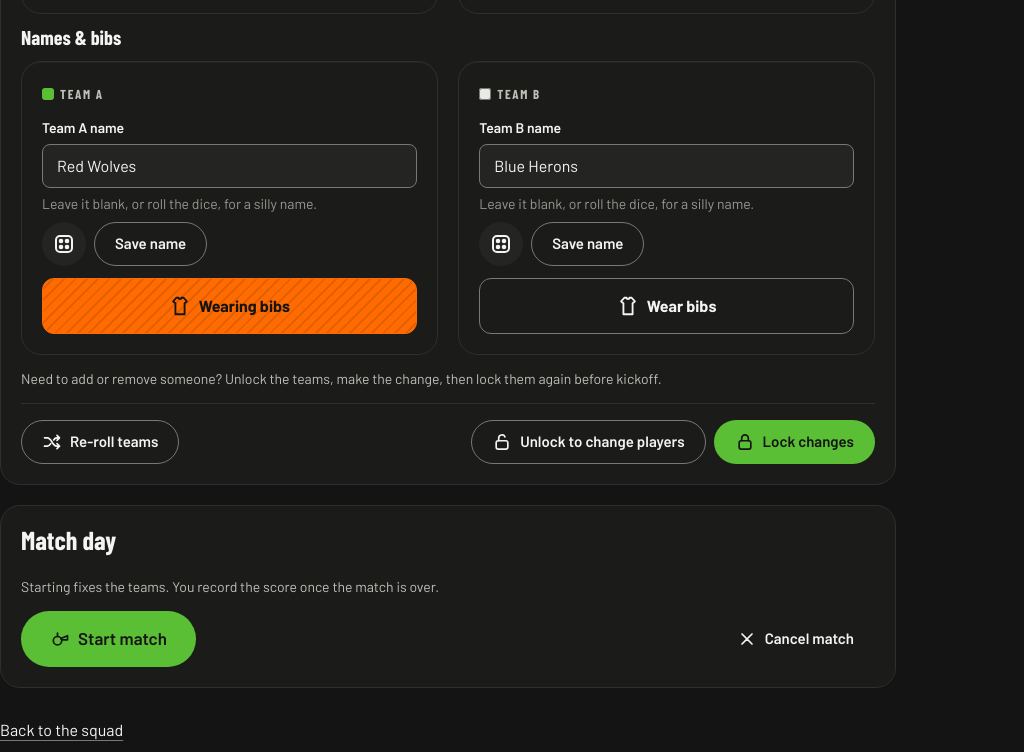
Test: MatchScreen from kick-off to the final score › cancels a match only on a second, explicit activation
The width and height of the screenshot is (1024, 752).
(page scrolled)
Click the button "Cancel match" at [795, 639], box [716,617,875,661]
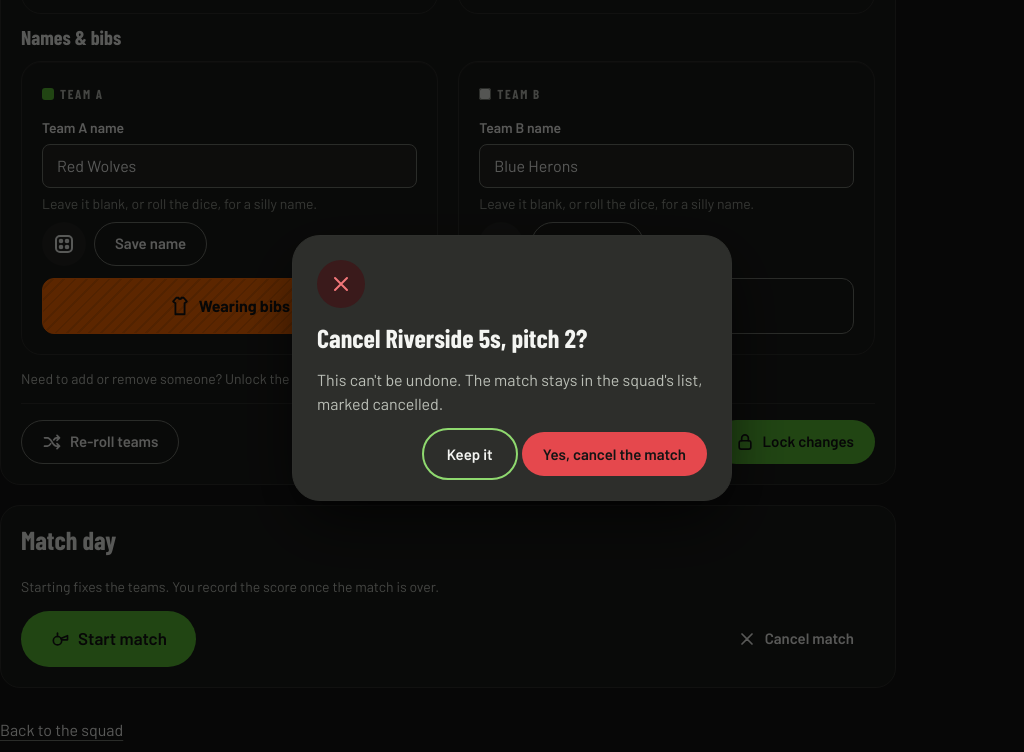
Click the button "Keep it" at [470, 454], box [426,432,514,476]
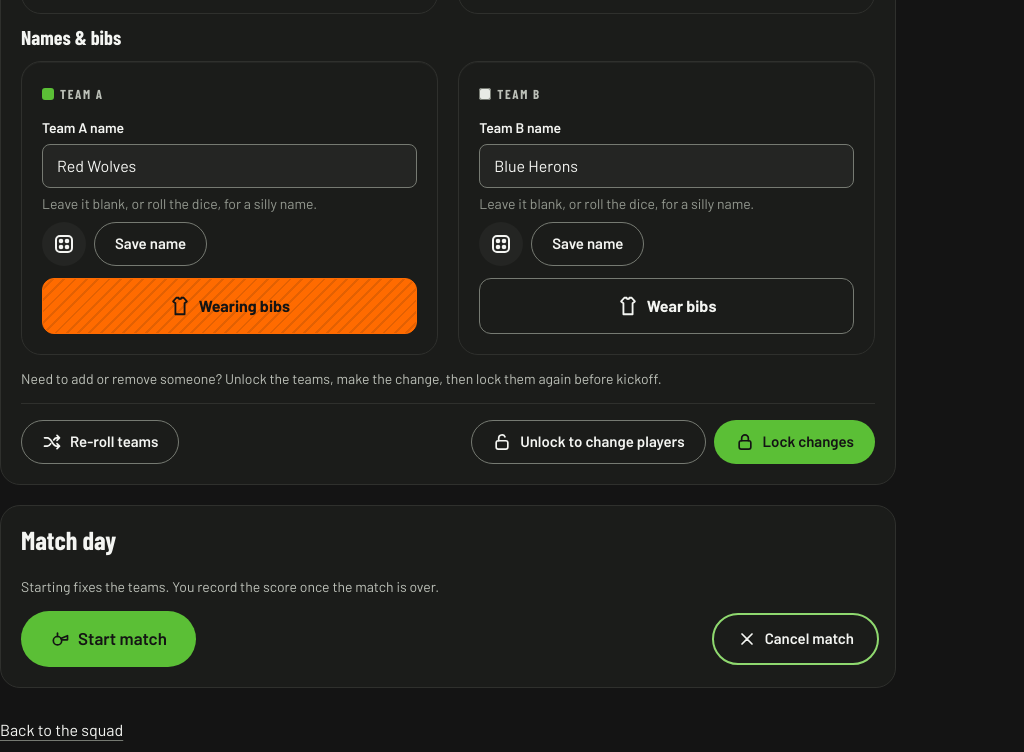
Click the button "Cancel match" at [795, 639], box [716,617,875,661]
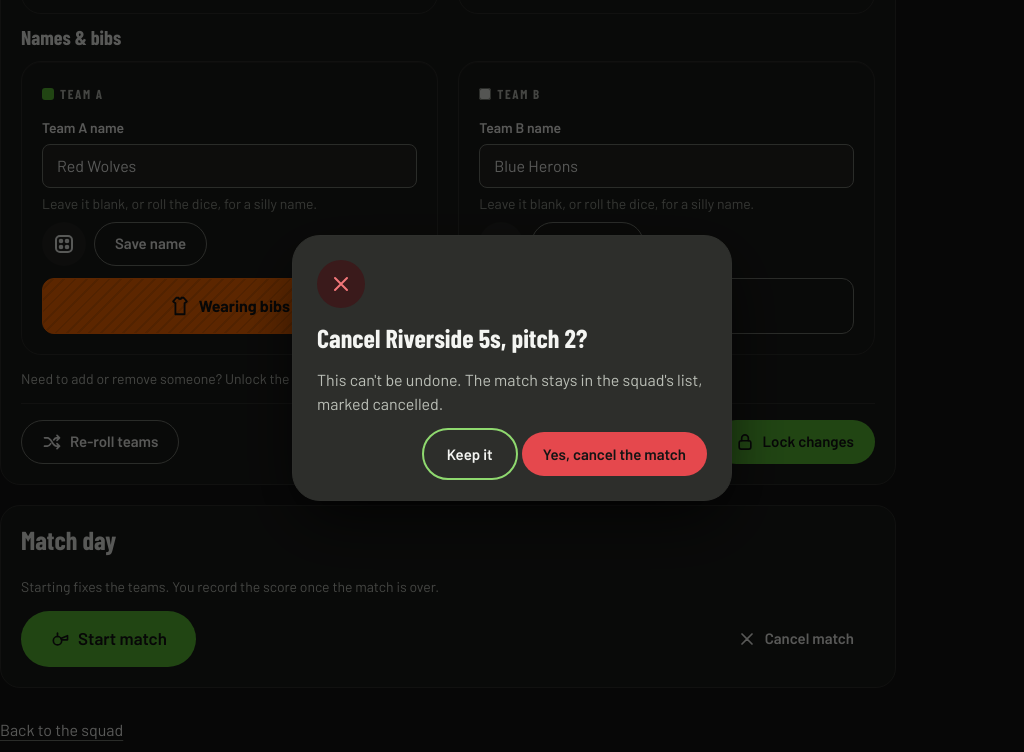
Click the button "Yes, cancel the match" at [614, 454], box [522,432,707,476]
(page scrolled)
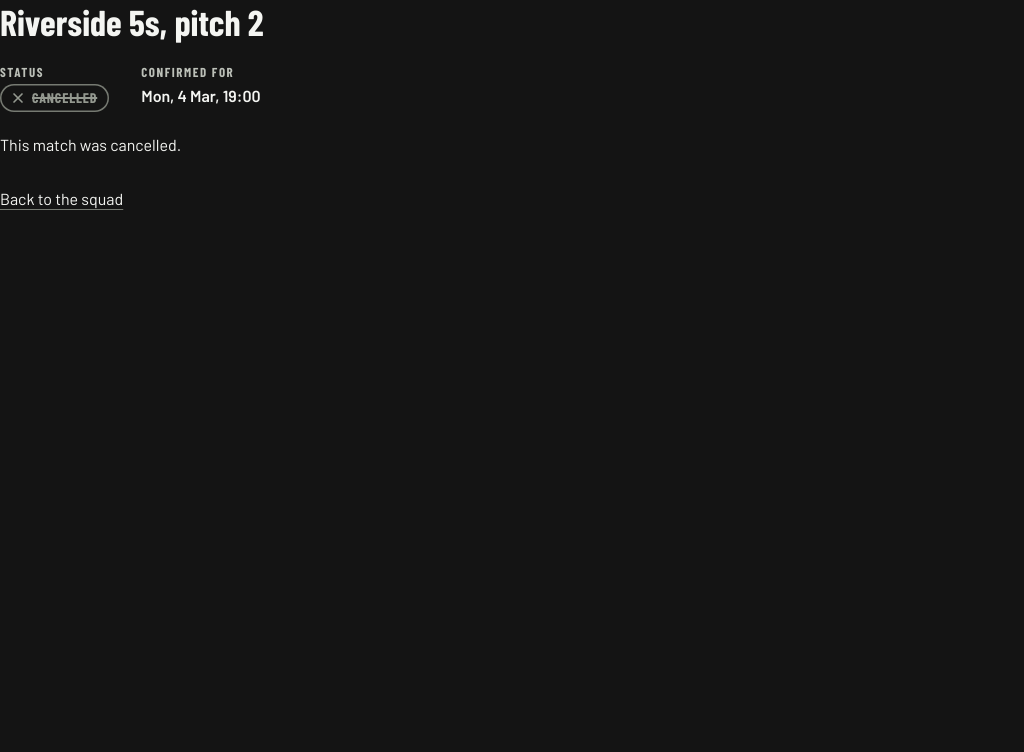
Result: the text "This match was cancelled." is shown at [0,134,181,154]
Result: the button "Cancel match" is gone
